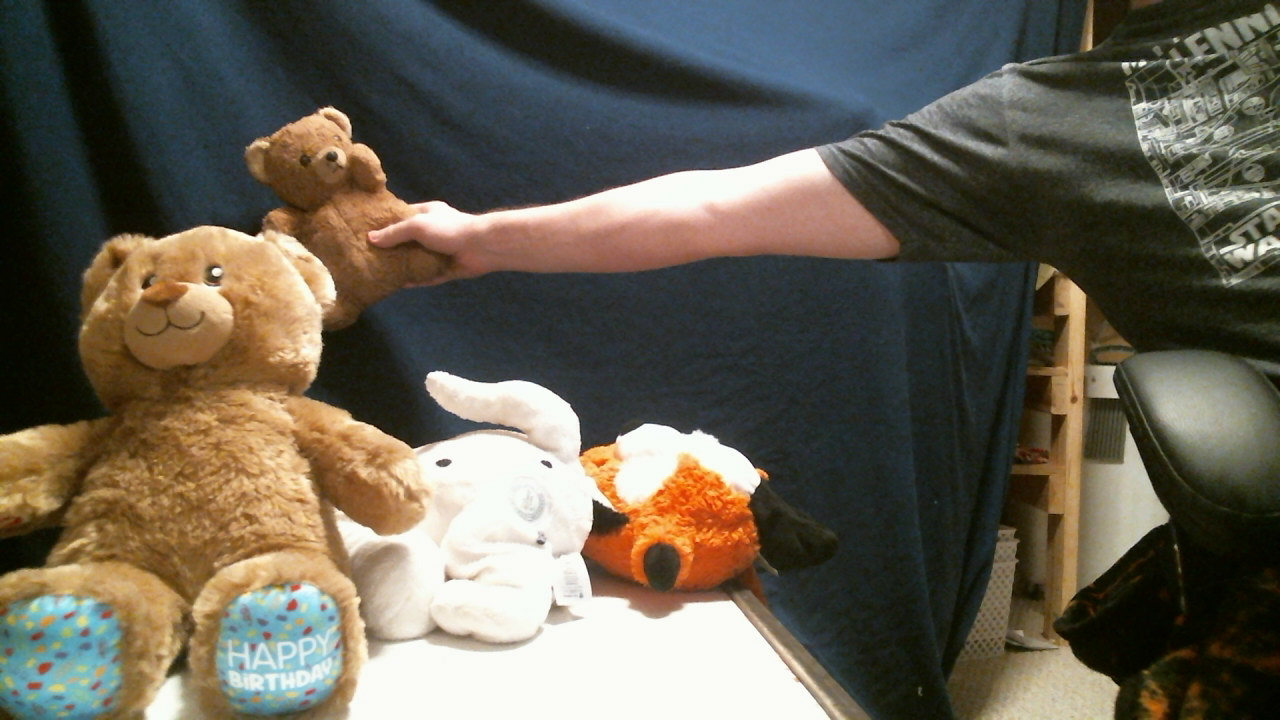Little_Mister_Bear: (290, 128, 366, 196)
